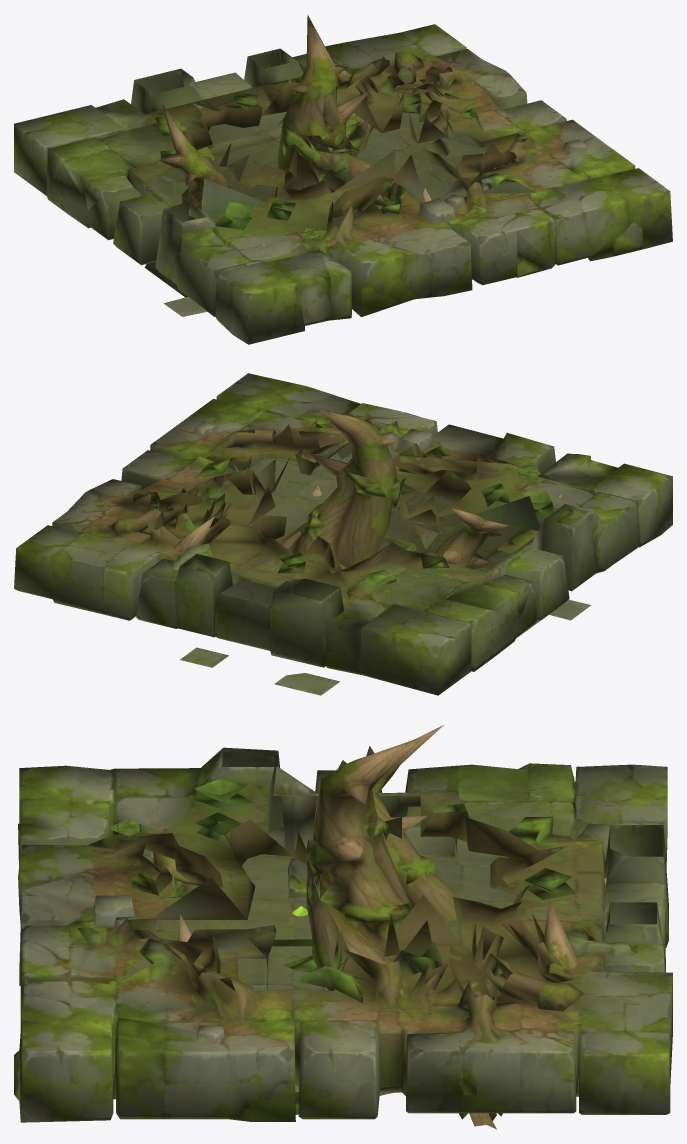
Rendered from trap.fbx.
3 renders of one model, top to bottom at view 1: azimuth 30°, elevation 25°; view 2: azimuth 150°, elevation 25°; view 3: azimuth 270°, elevation 25°, orthographic. The views are drawn at different scales.
Parts seen in each view (by area): view 1: trap, Spikes; view 2: trap, Spikes; view 3: trap, Spikes.
Boxes of the visible parts, x1=… form: trap: x1=14, y1=24, x2=672, y2=344; Spikes: x1=144, y1=15, x2=472, y2=319; trap: x1=14, y1=373, x2=672, y2=695; Spikes: x1=156, y1=409, x2=591, y2=695; trap: x1=14, y1=747, x2=672, y2=1122; Spikes: x1=151, y1=725, x2=606, y2=1129.
Size of the model in its own units: 2.4 by 1.13 by 2.31.
1 material, 1 textured.
